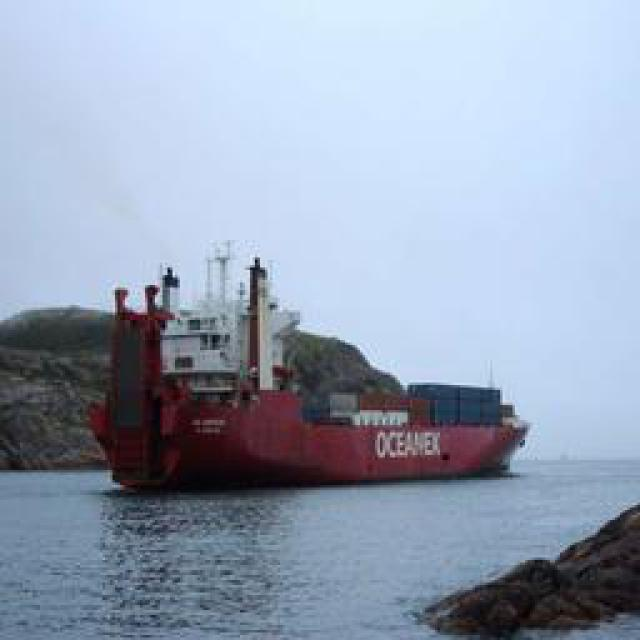Ship: (94, 247, 549, 497)
